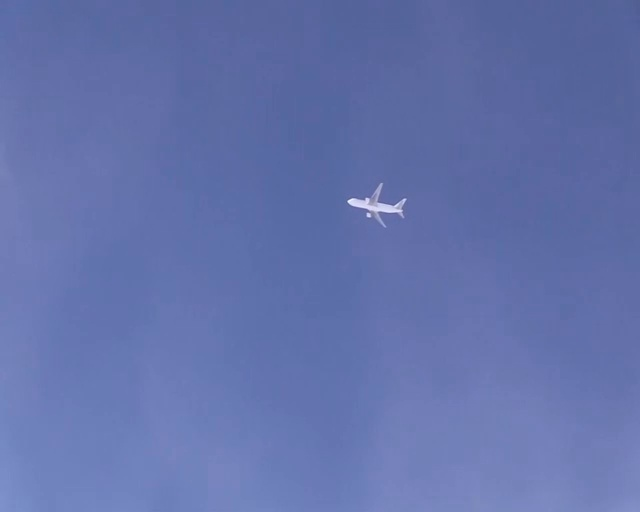AIRPLANE: (346, 182, 407, 228)
